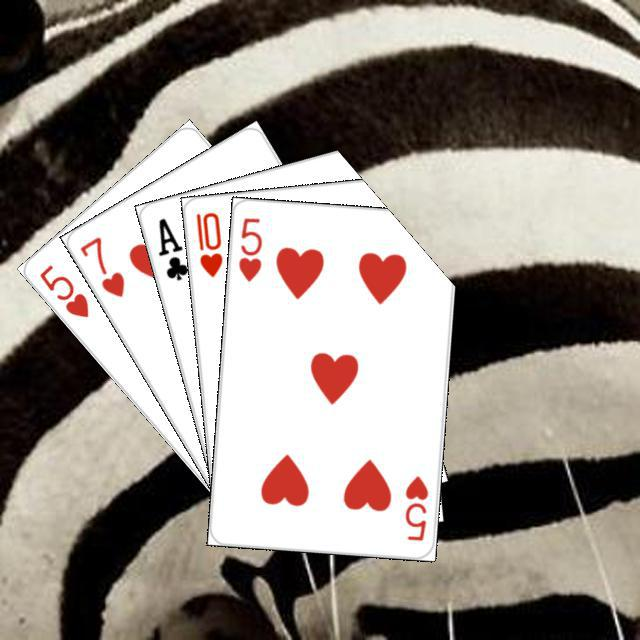10h: (191, 207, 225, 279)
5h: (34, 259, 91, 320), (233, 212, 264, 284), (400, 471, 430, 543)
7h: (74, 231, 127, 299)
Ac: (153, 213, 190, 283)
